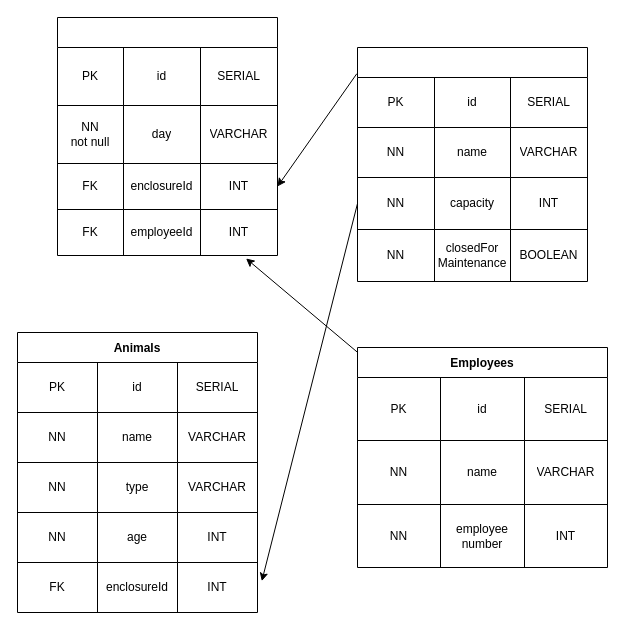
This 625x630 diagram has some shape labels left out. Each missing label, with the box of its shape:
Assignments: (56, 16, 278, 256)
Enclosures: (356, 46, 588, 282)
